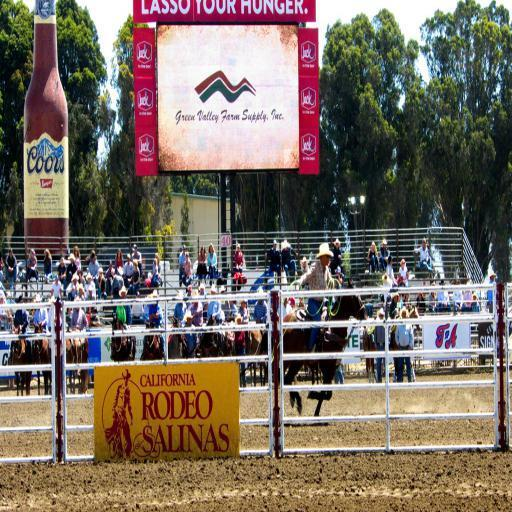horse: (258, 278, 366, 417), (387, 304, 421, 384), (218, 318, 252, 388), (54, 326, 88, 394), (238, 316, 270, 384), (32, 318, 58, 394), (8, 328, 34, 398), (108, 310, 137, 362), (197, 312, 224, 356), (141, 320, 166, 362), (166, 316, 188, 358), (362, 324, 376, 382)
